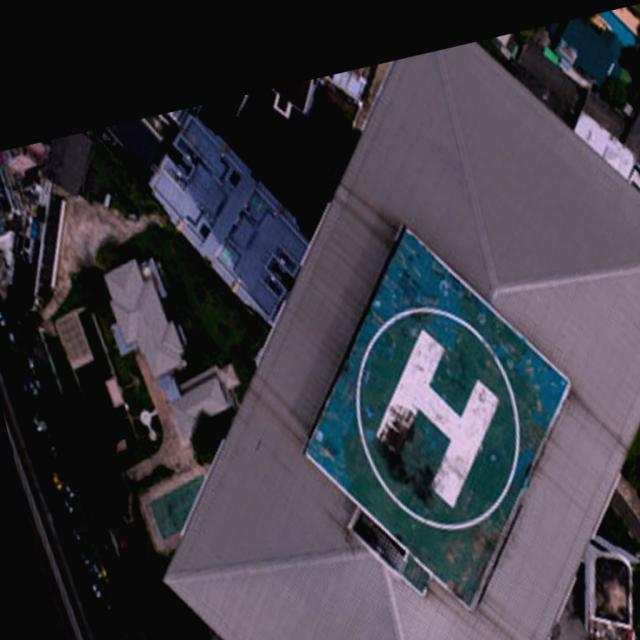helipad: (352, 300, 524, 532)
